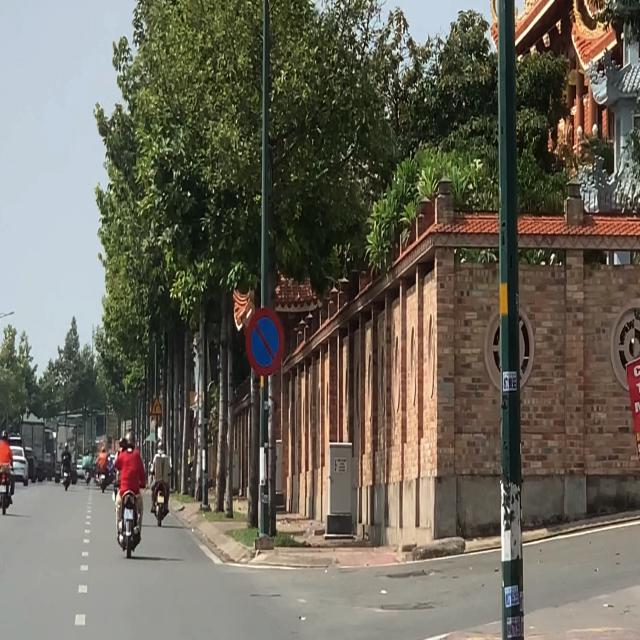Cam do: (244, 306, 288, 380)
Nguy hiem: (149, 396, 162, 420)
